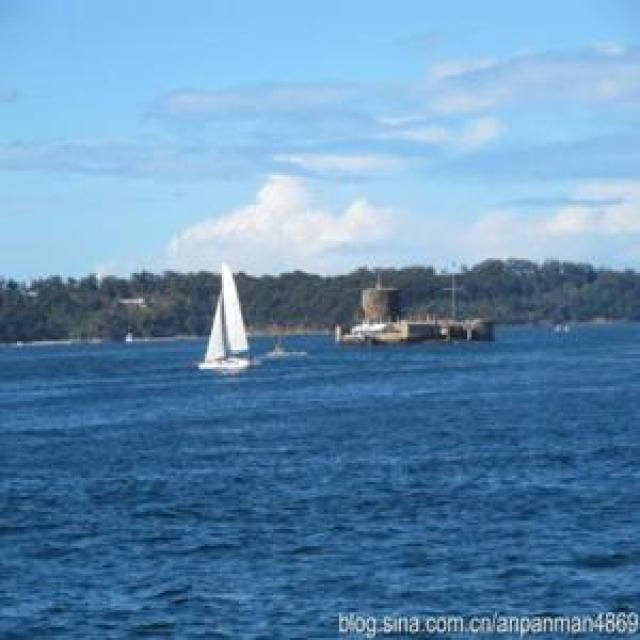sailboat: (189, 259, 252, 375)
